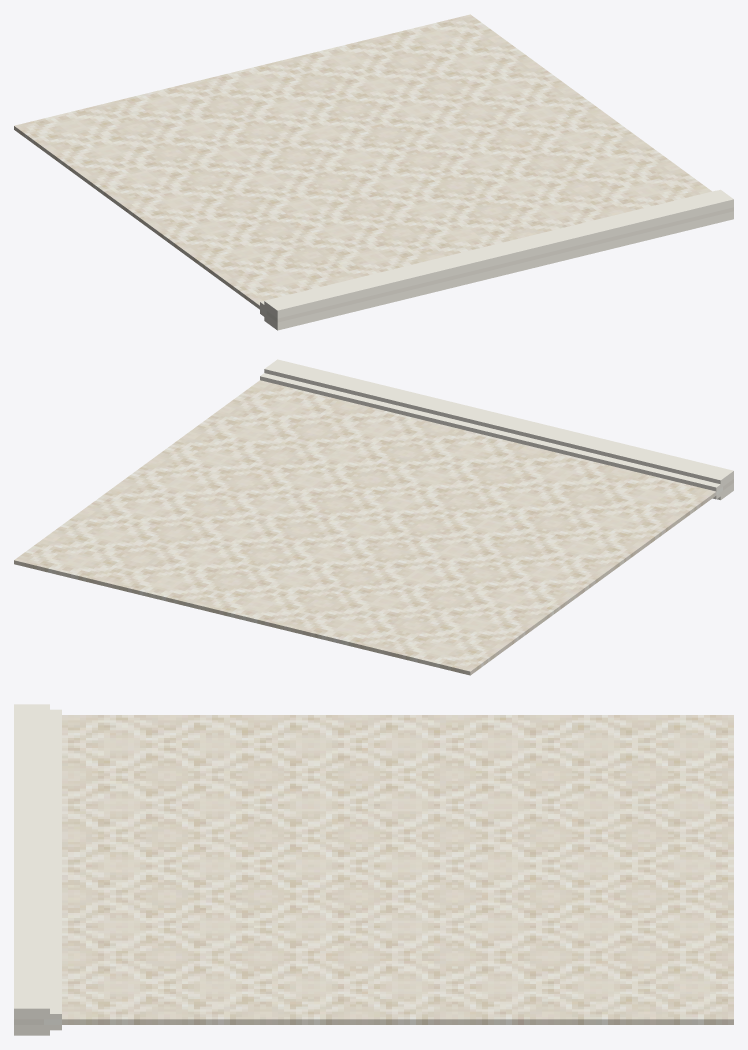
File: walll.vox.obj
The picture shows the model from 3 angles, top to bottom: view 1: azimuth 30°, elevation 25°; view 2: azimuth 150°, elevation 25°; view 3: azimuth 270°, elevation 25°; orthographic projection. The views are drawn at different scales.
Parts seen in each view (by area): view 1: walll; view 2: walll; view 3: walll.
Part boxes in pixels (x1,y1,x2,y2): walll: (14,14,733,330); walll: (14,359,733,675); walll: (14,704,733,1035).
Bounding box in the file's own units: 12 × 0.5 × 12.
Materials: 1 (1 with a texture image).
